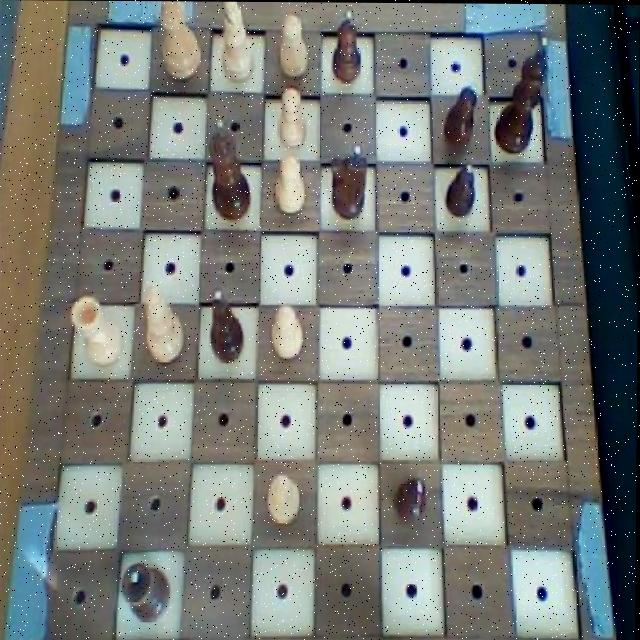bishop: (207, 287, 247, 368)
black-bishop: (491, 31, 553, 155)
black-king: (325, 140, 371, 222)
black-knight: (329, 9, 370, 87), (441, 81, 479, 154), (391, 472, 431, 527), (445, 161, 478, 218)
black-pawn: (203, 116, 257, 224)
black-queen: (121, 559, 172, 625)
black-rook: (140, 279, 188, 372), (217, 2, 258, 83)
white-bishop: (154, 1, 204, 83)
white-knight: (269, 152, 312, 219), (275, 9, 312, 80), (275, 83, 311, 151), (265, 469, 304, 528), (269, 303, 306, 362)
white-queen: (68, 293, 126, 372)
